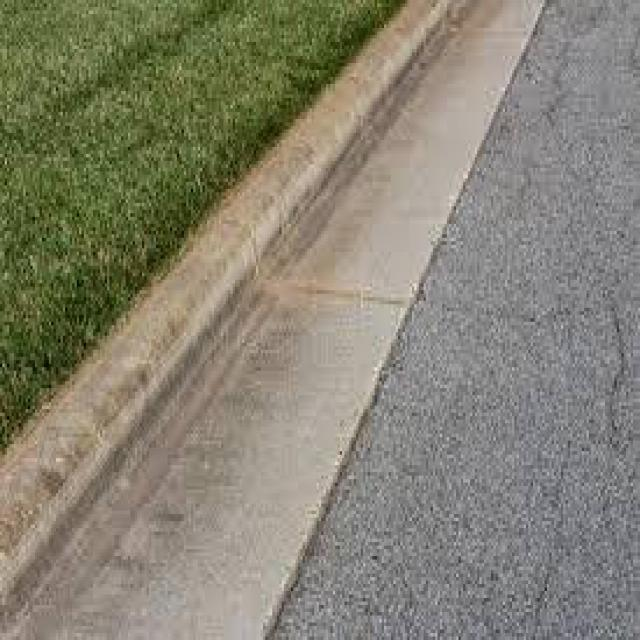curb: (1, 313, 236, 612), (267, 6, 480, 217), (154, 180, 337, 377)
